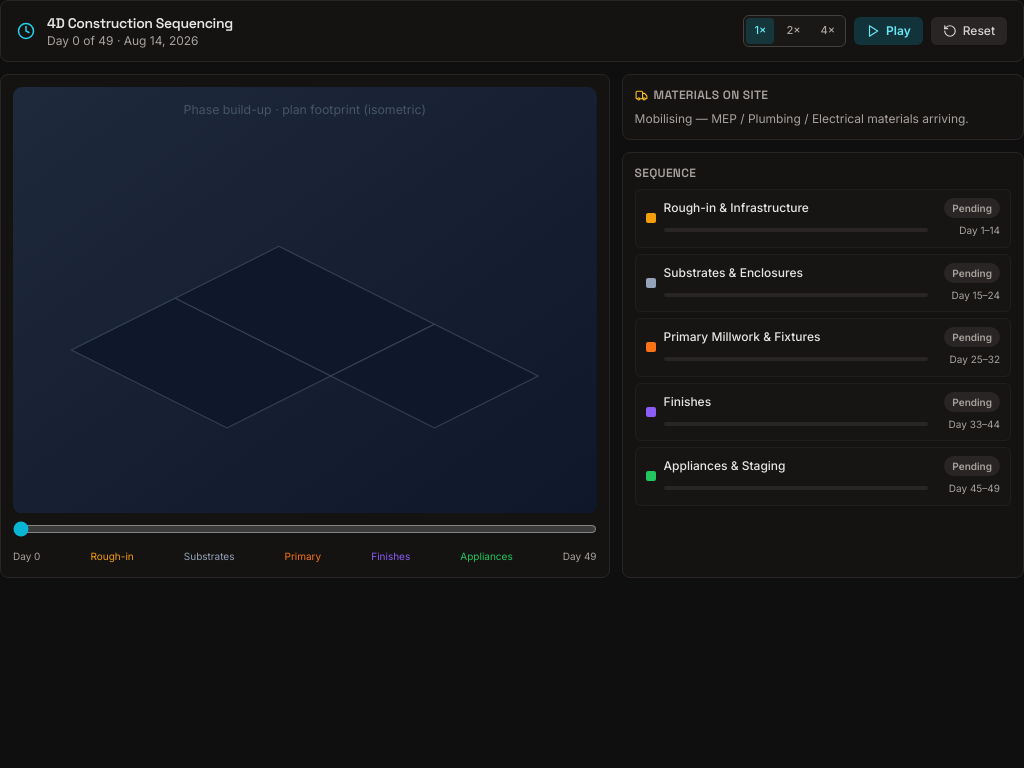
Test: ConstructionSequenceView › scrubbing into the substrates phase marks rough-in complete
The image size is (1024, 768).
Set the slider named "Construction timeline" to "18": {"x": 230, "y": 530} [13,522,597,538]
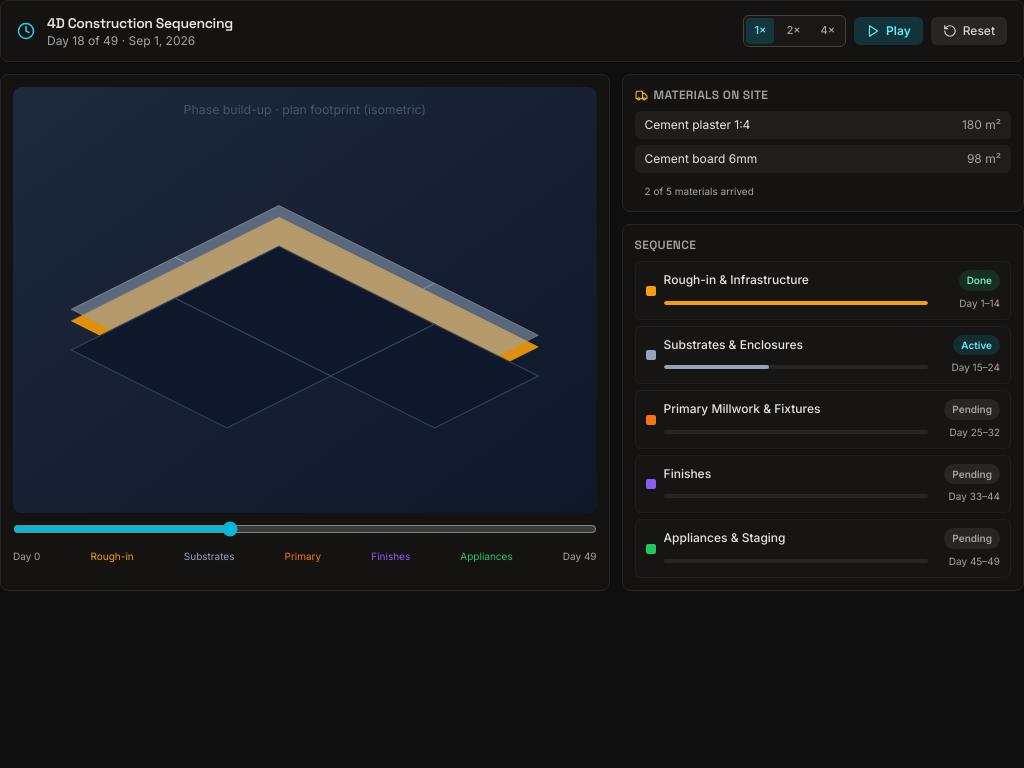
Now the text "Day 18 of 49 · Sep 1, 2026" is shown, box [47,33,195,48]
